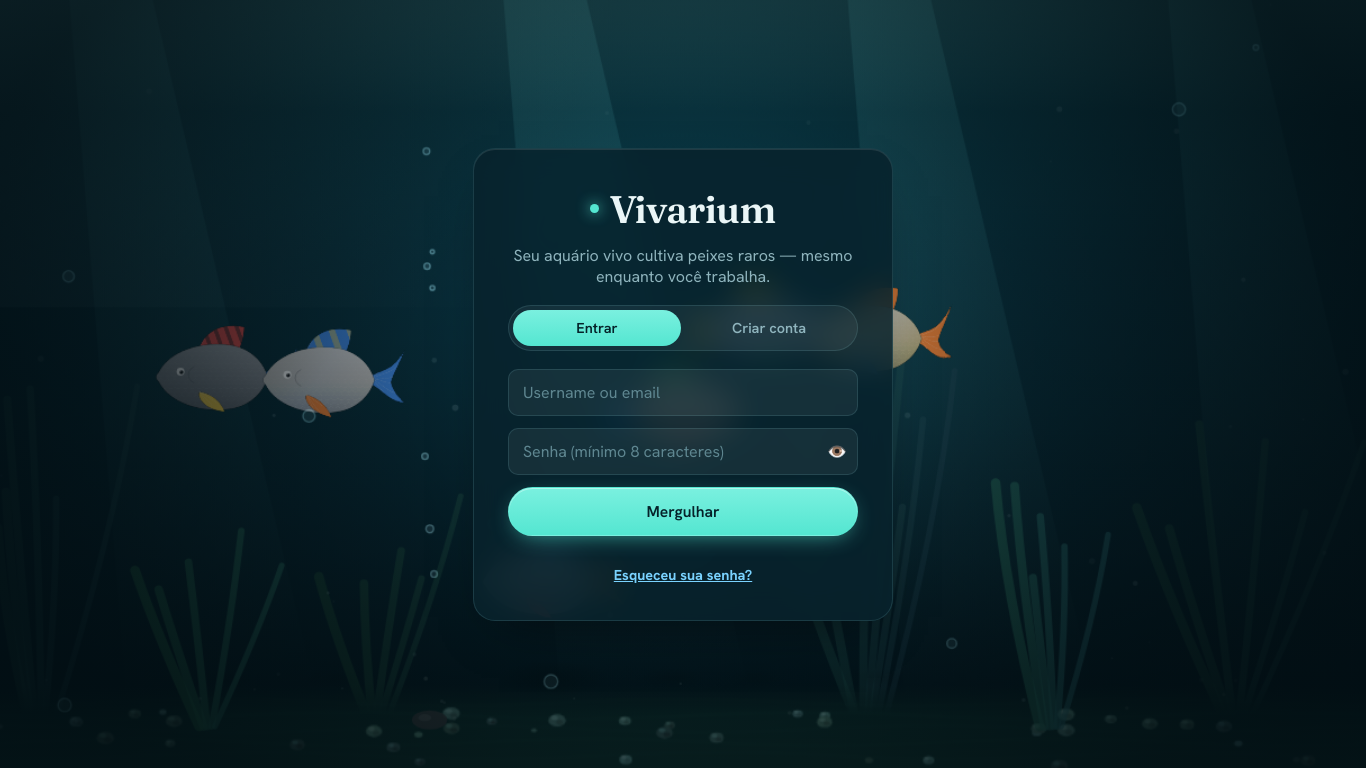
Toggles de VIP (coleta/limpeza automática) › nasce com os dois toggles ligados (default true)
Type "jogador1" into the field with placeholder "Username ou email" at (683,393), box x1=508 y1=369 x2=858 y2=416
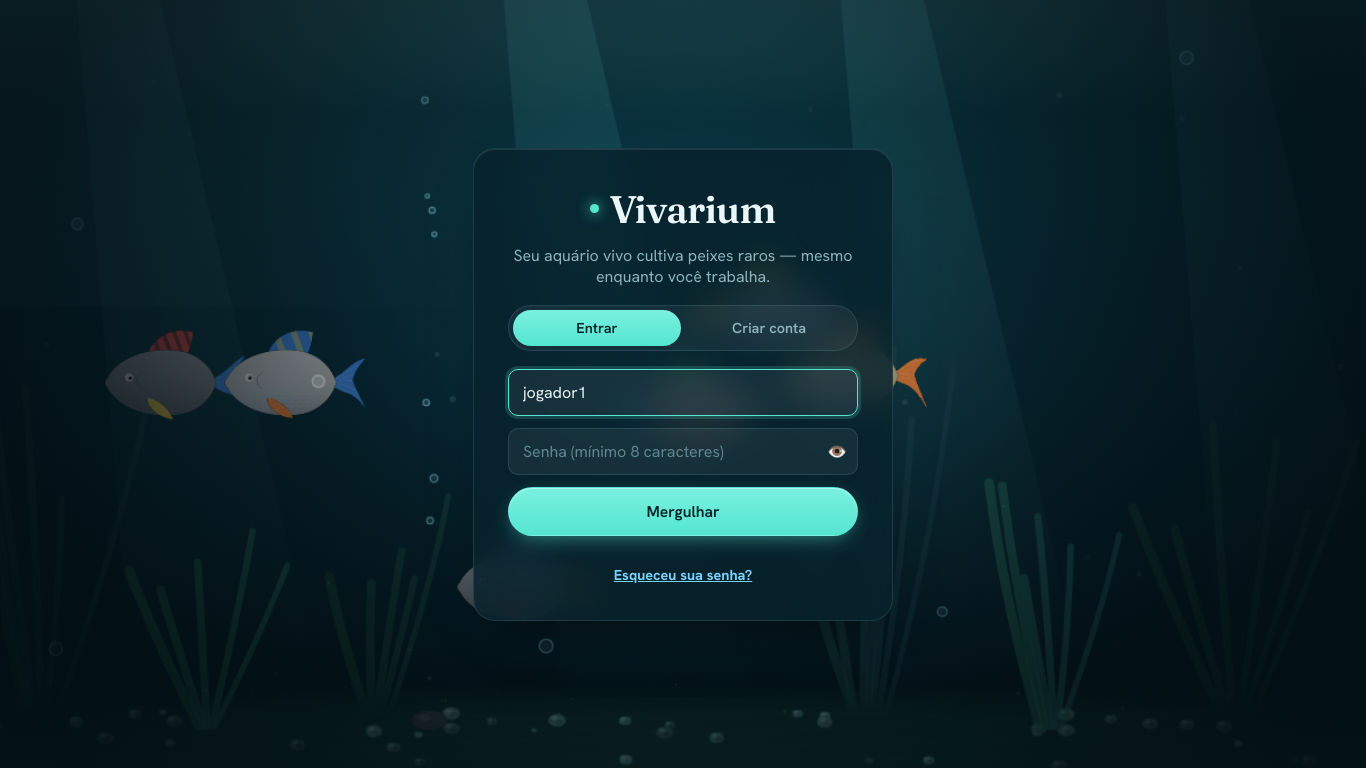
Type "senha-forte-123" into the password field with placeholder "Senha (mínimo 8 caracteres)" at (683,452), box x1=508 y1=428 x2=858 y2=475
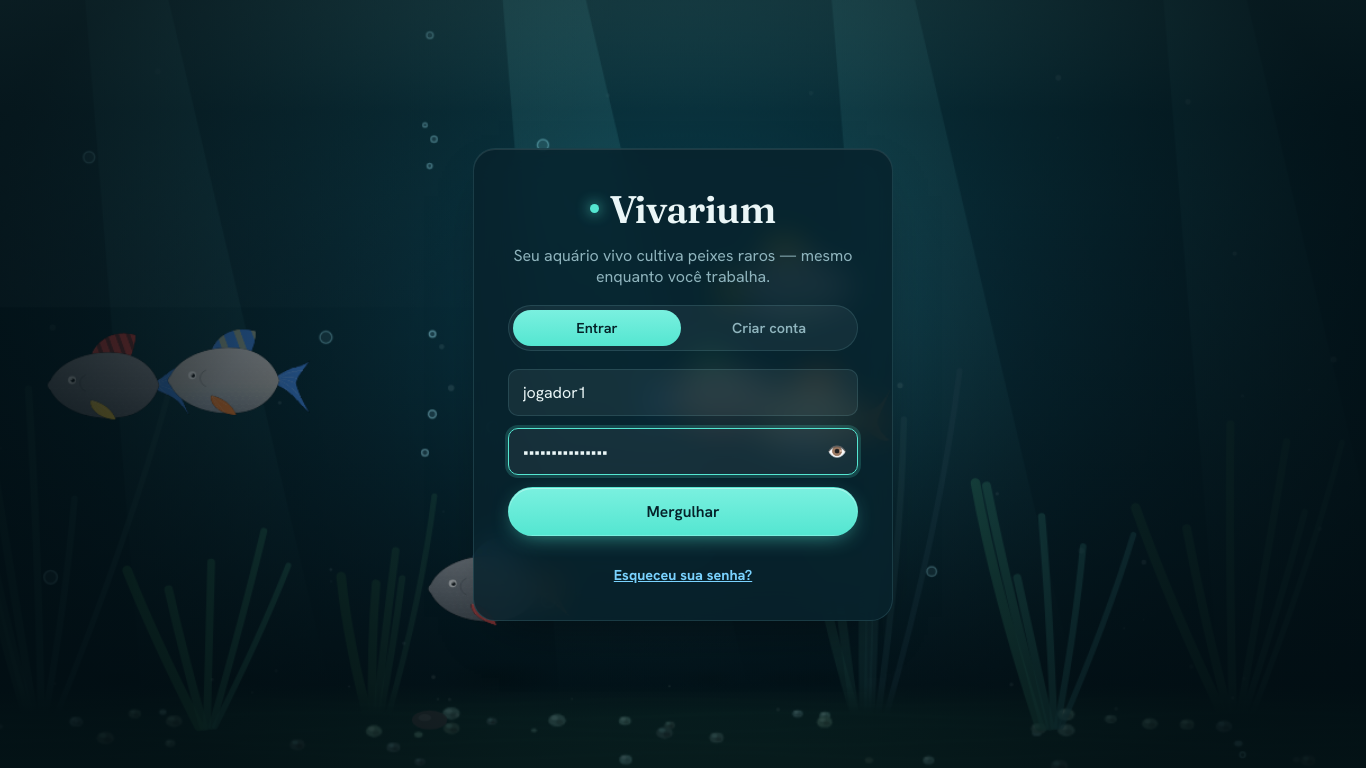
Click the button "Mergulhar" at (683,512), box x1=508 y1=487 x2=858 y2=536
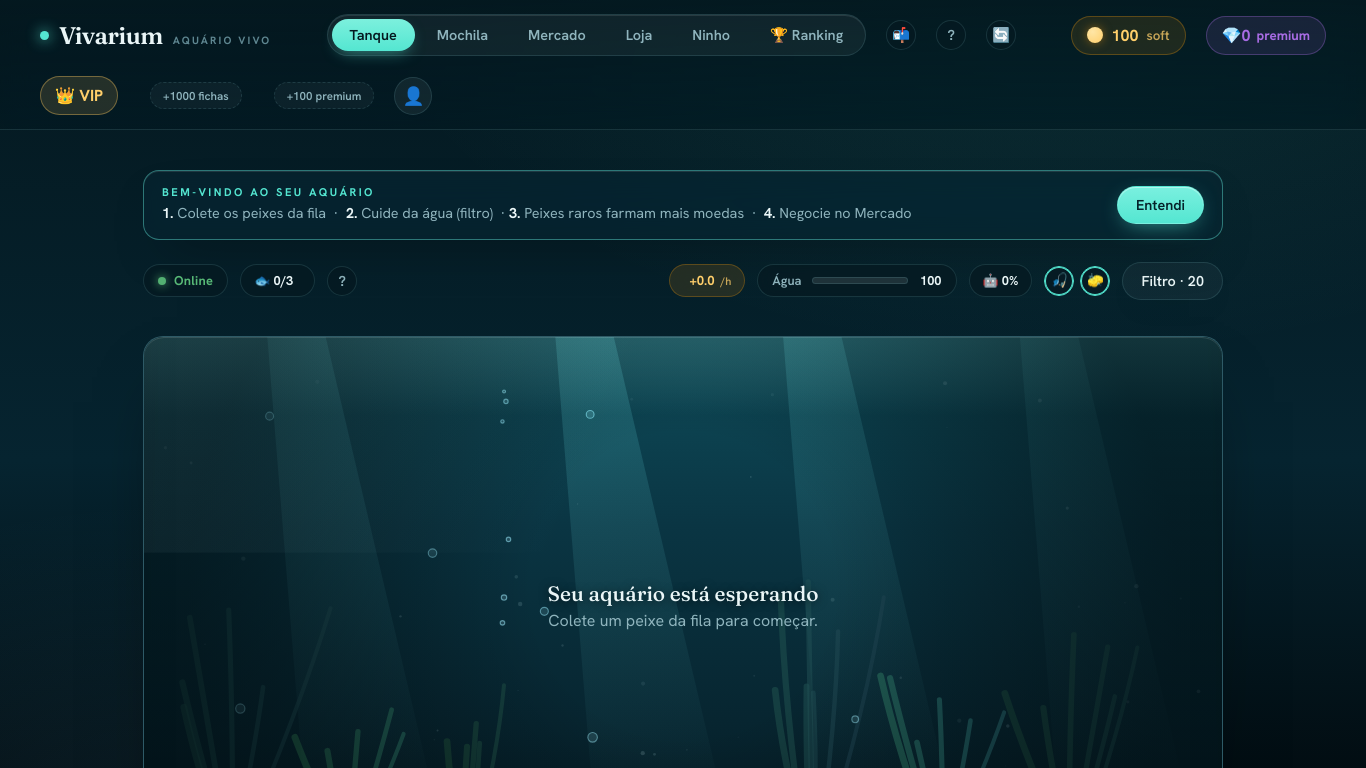
Click the button "Loja" at (640,35), box x1=608 y1=19 x2=671 y2=51
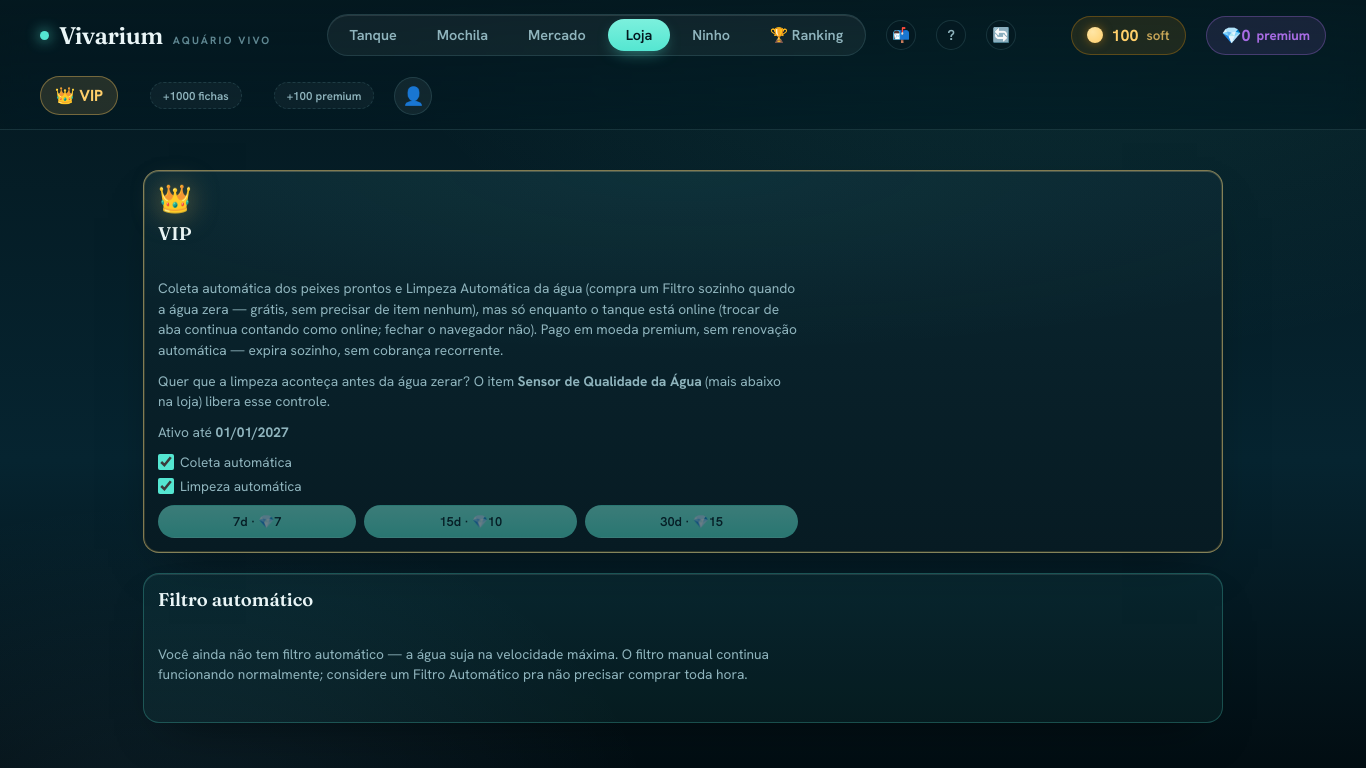
Result: the checkbox labelled "Coleta automática" is checked at x1=158 y1=454 x2=174 y2=470
Result: the checkbox labelled "Limpeza automática" is checked at x1=158 y1=478 x2=174 y2=494
